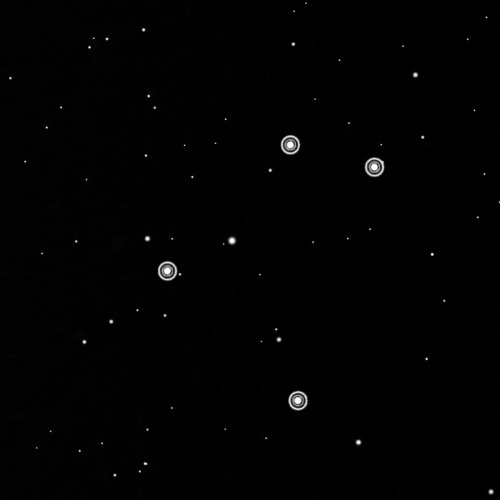coma_berenices: (146, 124, 400, 419)
